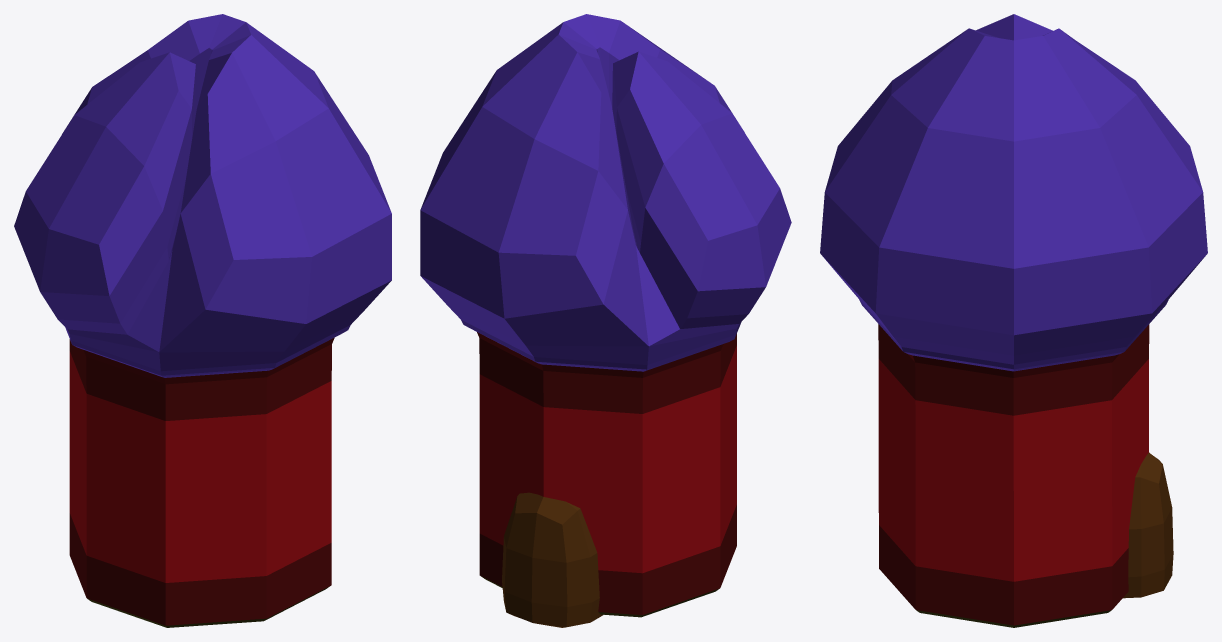
Rendered from building_gatherer.fbx.
3 renders of one model, left to right at view 1: azimuth 30°, elevation 25°; view 2: azimuth 150°, elevation 25°; view 3: azimuth 270°, elevation 25°, orthographic. The views are drawn at different scales.
Parts seen in each view (by area): view 1: Cube; view 2: Cube; view 3: Cube.
Boxes of the visible parts, <box> form: Cube: <box>14,14,391,627</box>; Cube: <box>420,14,791,627</box>; Cube: <box>820,14,1207,627</box>.
Bounding box in the file's own units: 485 × 774 × 484.
